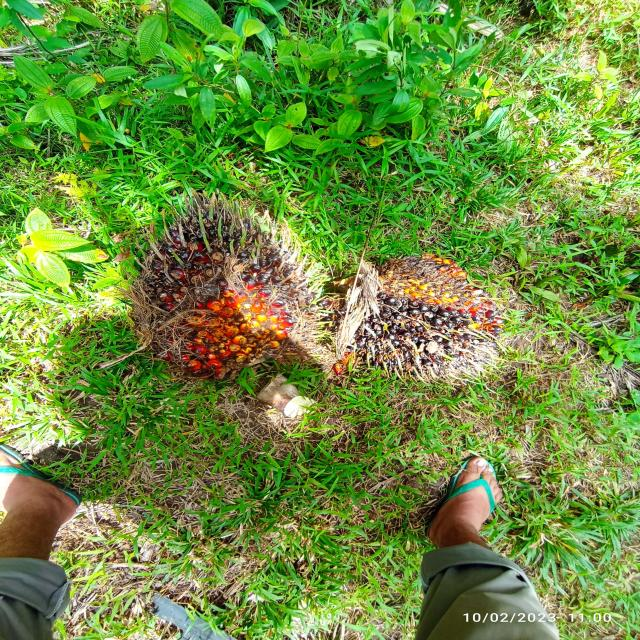fraksi 00: (326, 226, 524, 392)
fraksi 1: (102, 194, 326, 388)
